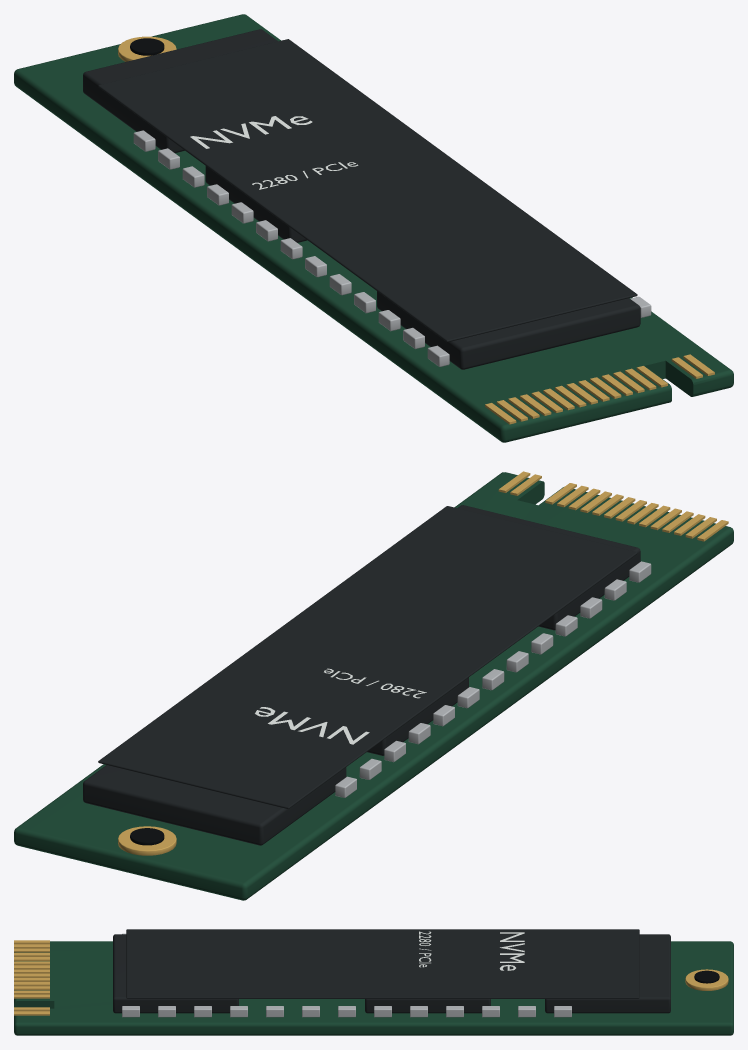
The model's file is nvme-ssd.glb.
3 renders of one model, top to bottom at view 1: azimuth 30°, elevation 25°; view 2: azimuth 150°, elevation 25°; view 3: azimuth 270°, elevation 25°, orthographic. The views are drawn at different scales.
Parts seen in each view (by area): view 1: NVME_2280 / Fine moulded ABS, M2 PCB, NVME_2280 / Nickel plated fasteners, NVME_2280 / Gold plated connector contacts, NVME_2280 / Printed warm white; view 2: NVME_2280 / Fine moulded ABS, M2 PCB, NVME_2280 / Gold plated connector contacts, NVME_2280 / Nickel plated fasteners, NVME_2280 / Printed warm white; view 3: NVME_2280 / Fine moulded ABS, M2 PCB, NVME_2280 / Gold plated connector contacts, NVME_2280 / Nickel plated fasteners, NVME_2280 / Printed warm white, M2 mounting hole.
Boxes of the visible parts, bbox=[...] form: NVME_2280 / Fine moulded ABS: bbox=[83, 29, 640, 369]; M2 PCB: bbox=[14, 14, 733, 442]; NVME_2280 / Nickel plated fasteners: bbox=[133, 130, 651, 366]; NVME_2280 / Gold plated connector contacts: bbox=[118, 36, 714, 424]; NVME_2280 / Printed warm white: bbox=[190, 116, 358, 189]; NVME_2280 / Fine moulded ABS: bbox=[83, 505, 640, 845]; M2 PCB: bbox=[14, 472, 733, 900]; NVME_2280 / Gold plated connector contacts: bbox=[118, 471, 728, 855]; NVME_2280 / Nickel plated fasteners: bbox=[335, 561, 651, 797]; NVME_2280 / Printed warm white: bbox=[255, 668, 426, 744]; NVME_2280 / Fine moulded ABS: bbox=[113, 929, 670, 1013]; M2 PCB: bbox=[14, 941, 733, 1035]; NVME_2280 / Gold plated connector contacts: bbox=[14, 940, 728, 1015]; NVME_2280 / Nickel plated fasteners: bbox=[122, 933, 571, 1017]; NVME_2280 / Printed warm white: bbox=[419, 931, 524, 970]; M2 mounting hole: bbox=[694, 970, 719, 983].
Size of the model in its own units: 0.022 by 0.0041 by 0.08.
